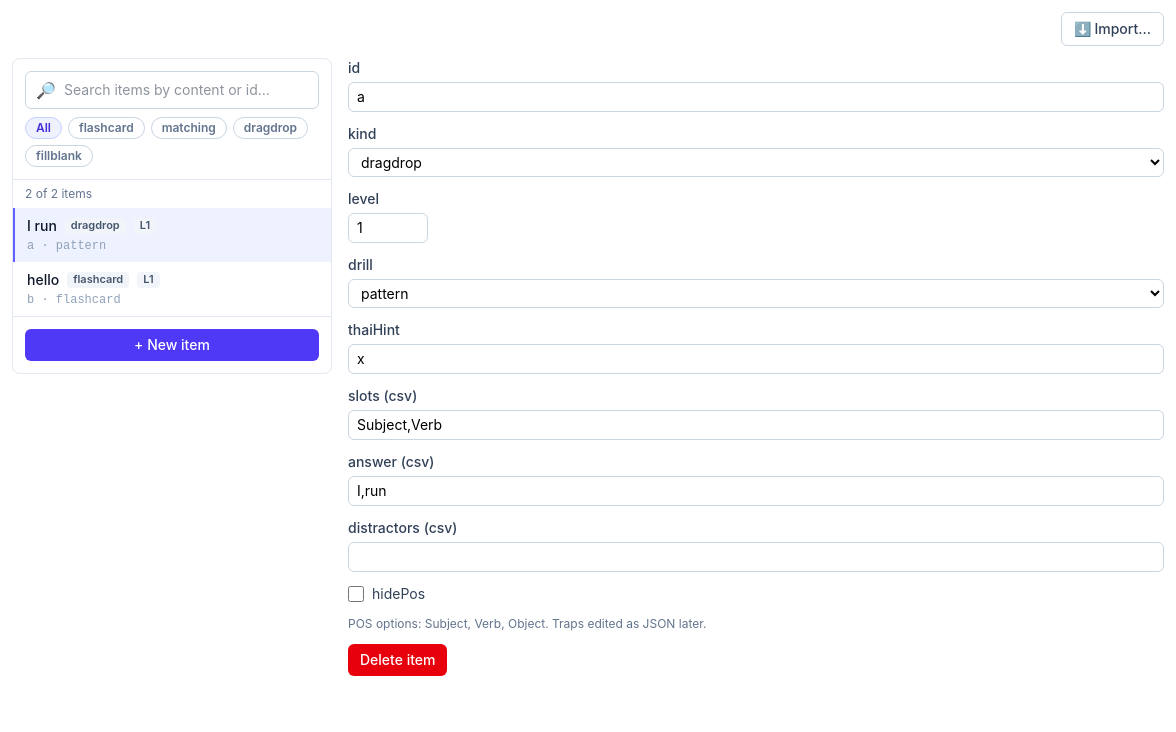
Test: PoolTab › filters the list by search query
Type "hello" into the search field at [186, 90], box [64,80,308,100]
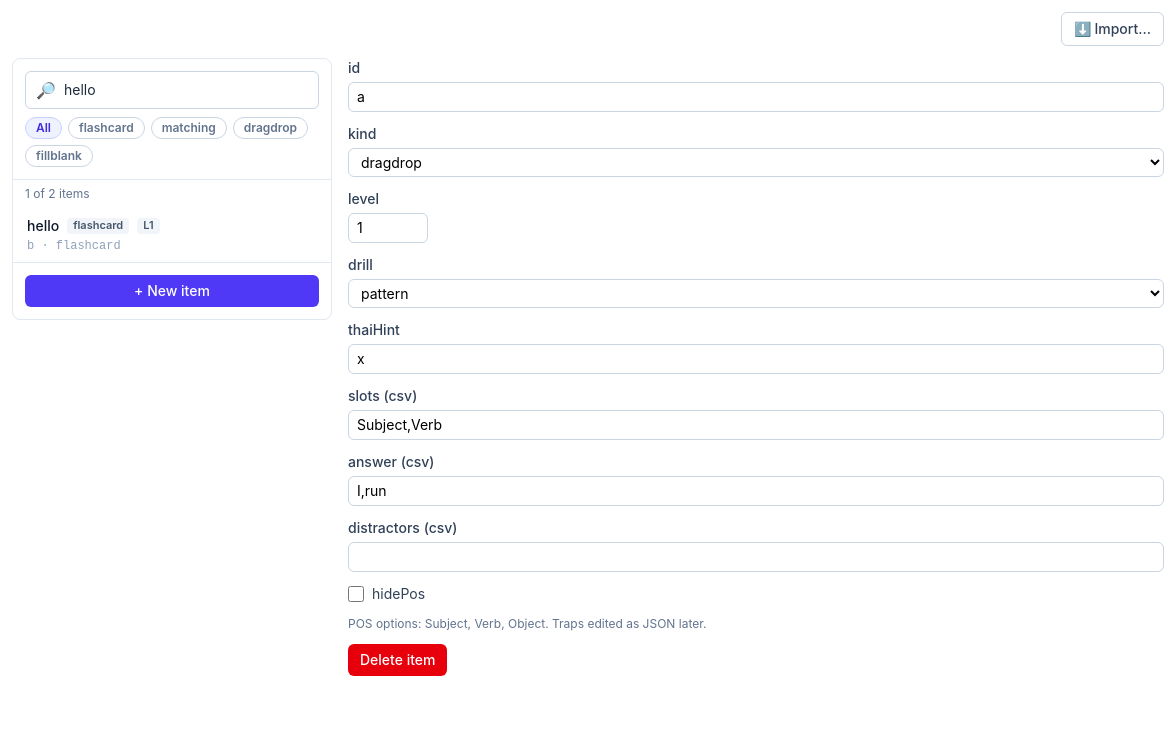
Expected: the text "hello" is shown, [27,216,59,236]
Expected: the button "I run" is gone
